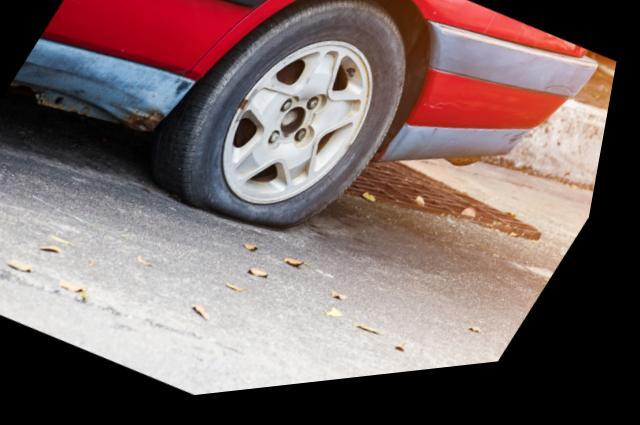tire flat: (158, 0, 412, 237)
